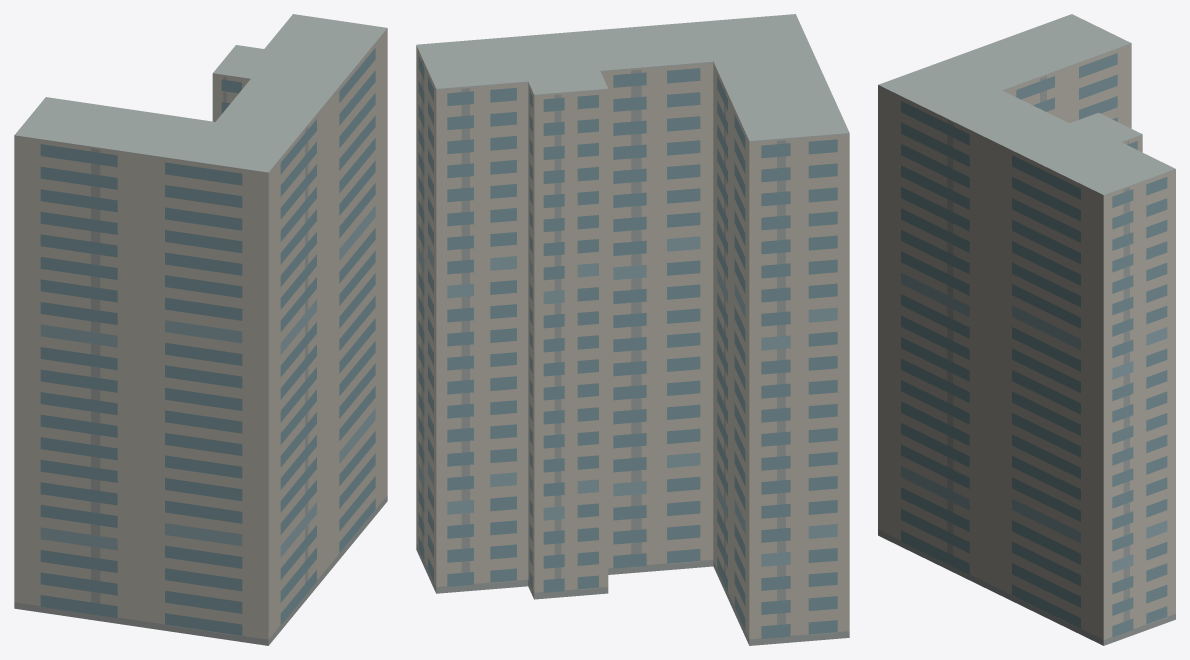
The model's file is residential-d9178686-e998-40e2-9525-105969a59e8e.glb.
The picture shows the model from 3 angles, left to right: view 1: azimuth 30°, elevation 25°; view 2: azimuth 150°, elevation 25°; view 3: azimuth 270°, elevation 25°; orthographic projection. The views are drawn at different scales.
Parts seen in each view (by area): view 1: residential-d9178686-e998-40e2-9525-105969a59e8e.tmp; view 2: residential-d9178686-e998-40e2-9525-105969a59e8e.tmp; view 3: residential-d9178686-e998-40e2-9525-105969a59e8e.tmp.
Part boxes in pixels (x1,y1,x2,y2): residential-d9178686-e998-40e2-9525-105969a59e8e.tmp: (14, 14, 387, 645); residential-d9178686-e998-40e2-9525-105969a59e8e.tmp: (416, 14, 849, 645); residential-d9178686-e998-40e2-9525-105969a59e8e.tmp: (878, 14, 1175, 645).
Size of the model in its own units: 55.21 by 64.05 by 38.35.
